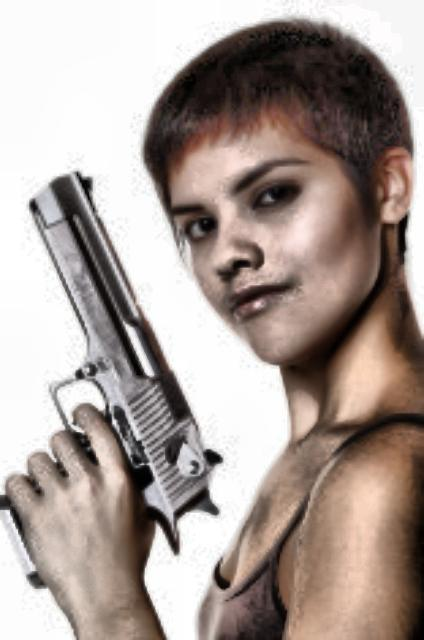pistol: (0, 160, 226, 588)
